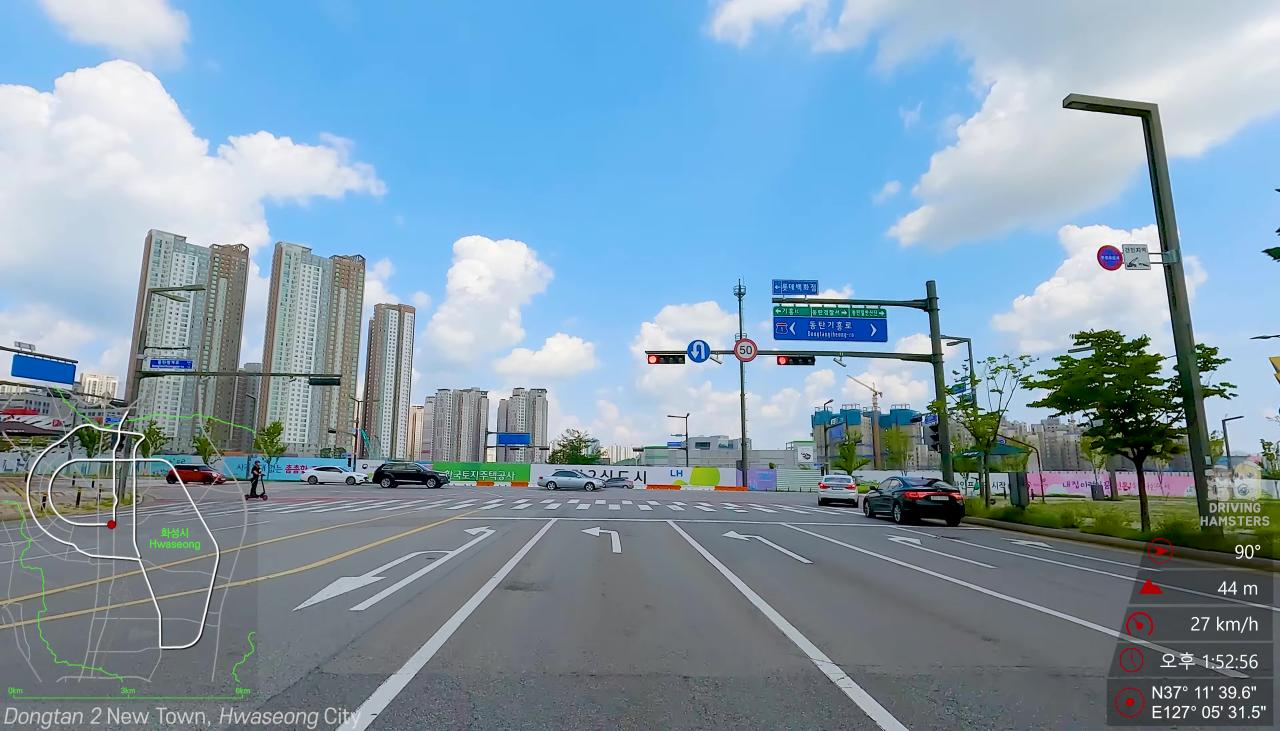Red Light: (776, 356, 788, 365), (647, 354, 657, 364)
